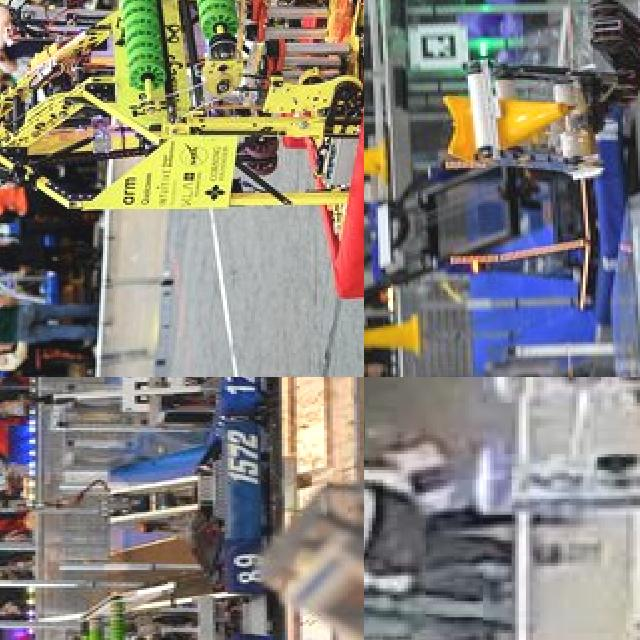FRC-Robots: (0, 0, 364, 283), (364, 46, 632, 354), (487, 0, 640, 248), (69, 415, 279, 583), (415, 377, 640, 530), (46, 588, 308, 640), (96, 377, 288, 407)
